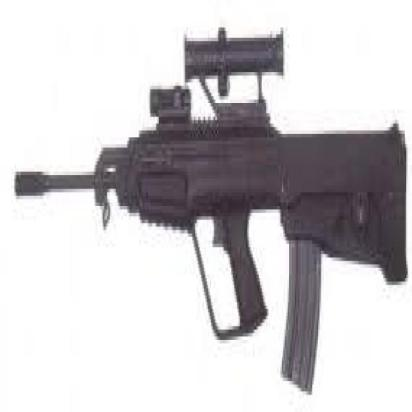Gun: (13, 31, 410, 398)
